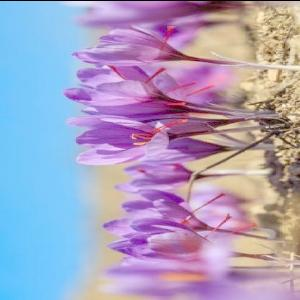Saffron: (76, 24, 208, 72), (66, 54, 178, 110), (78, 116, 166, 160), (131, 230, 234, 264), (114, 158, 202, 193)
